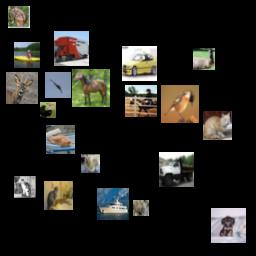airplane: (45, 72, 71, 98)
automobile: (122, 46, 157, 81)
bird: (161, 85, 199, 123), (193, 48, 215, 70)
cat: (44, 181, 73, 210), (46, 125, 75, 154), (203, 111, 232, 140), (14, 176, 36, 198)
deer: (6, 72, 38, 104), (8, 6, 30, 28), (40, 102, 56, 118)
dog: (211, 208, 246, 243), (81, 154, 100, 173)
frog: (133, 200, 149, 216)
ship: (97, 188, 129, 220), (14, 42, 40, 68)
truck: (159, 152, 194, 187), (54, 31, 89, 66)
